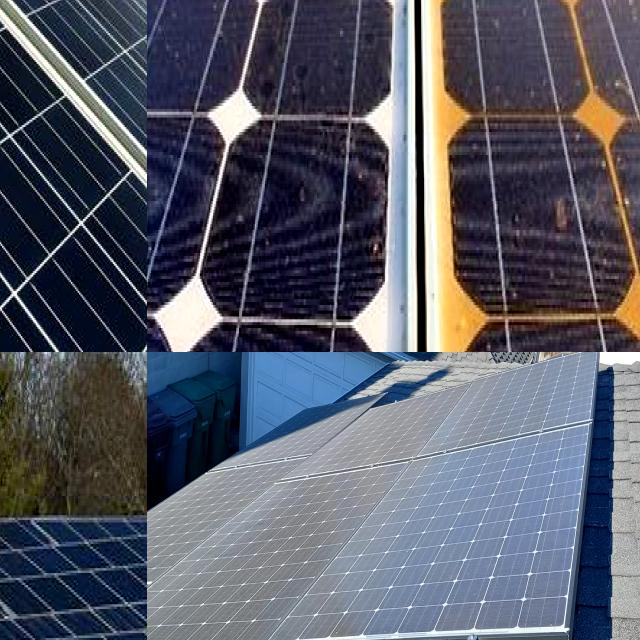crack: (0, 0, 147, 352), (0, 0, 147, 319)
dust: (354, 458, 466, 563), (486, 428, 582, 550), (454, 557, 566, 630), (250, 481, 344, 566), (344, 414, 449, 478), (212, 576, 319, 633), (345, 568, 447, 623), (481, 374, 592, 414), (147, 560, 201, 640), (258, 428, 328, 473), (190, 489, 237, 544)
shadow: (431, 1, 629, 318), (421, 0, 574, 102), (447, 323, 640, 352)
